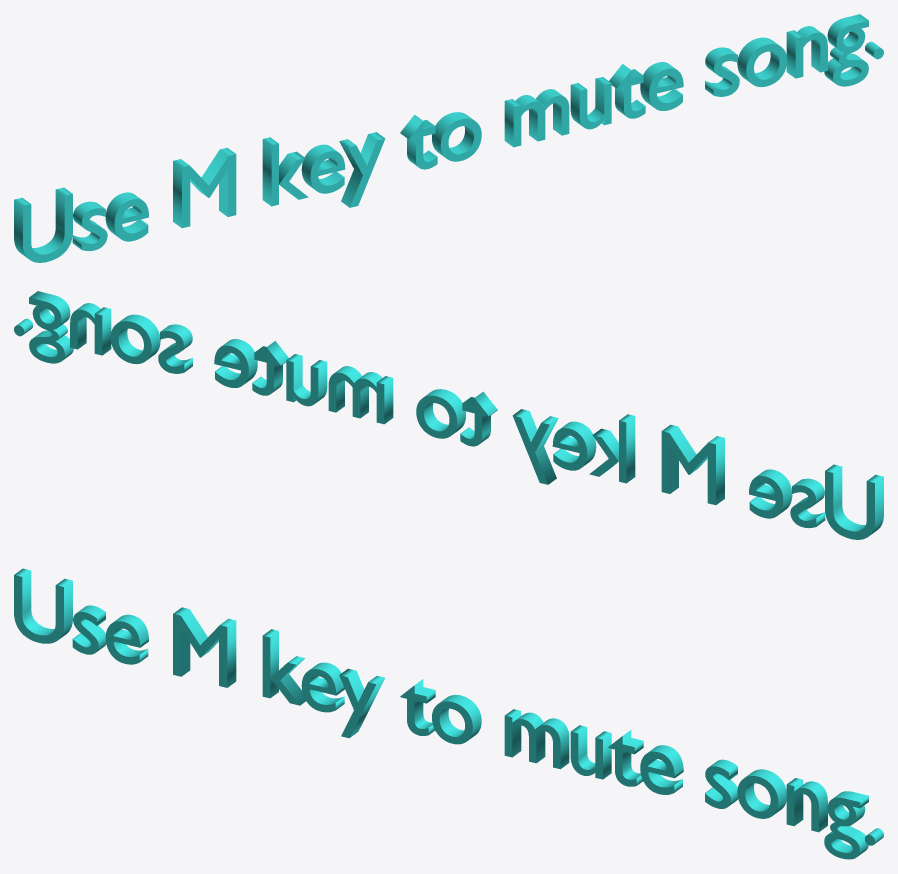
File: textinfo.fbx
3 views of the same model, one above another, from view 1: azimuth 30°, elevation 25°; view 2: azimuth 150°, elevation 25°; view 3: azimuth 330°, elevation 25° (orthographic).
Parts seen in each view (by area): view 1: Text; view 2: Text; view 3: Text.
Part boxes in pixels (x1=…): Text: x1=14, y1=14, x2=883, y2=262; Text: x1=14, y1=291, x2=883, y2=539; Text: x1=14, y1=568, x2=883, y2=859.
Size of the model in its own units: 1008 by 91.2 by 18.
